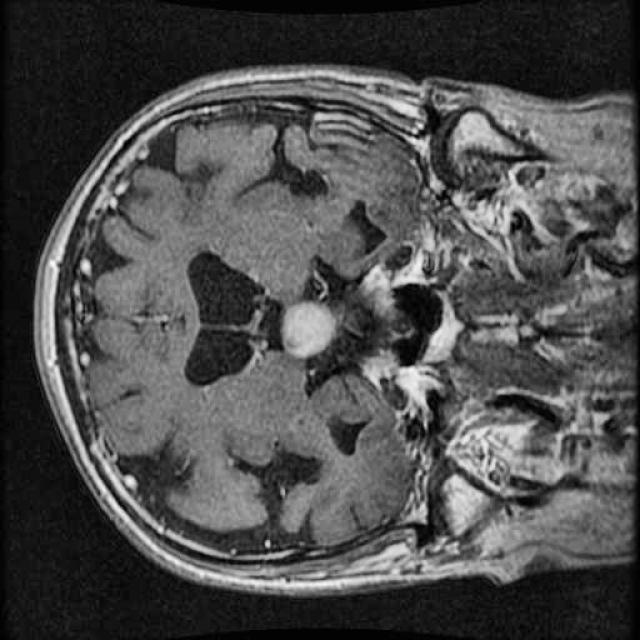Tumor: (278, 296, 345, 366)
